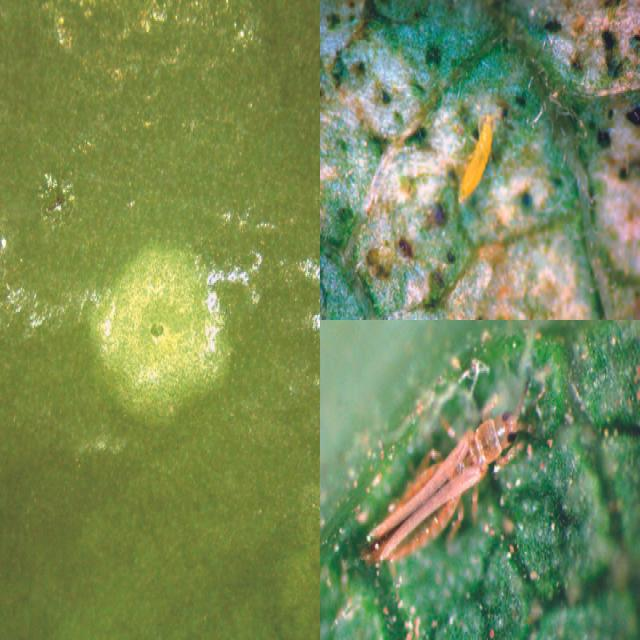Thrip-Adult-: (365, 409, 529, 575)
Thrip-Larva-: (452, 98, 502, 210)
